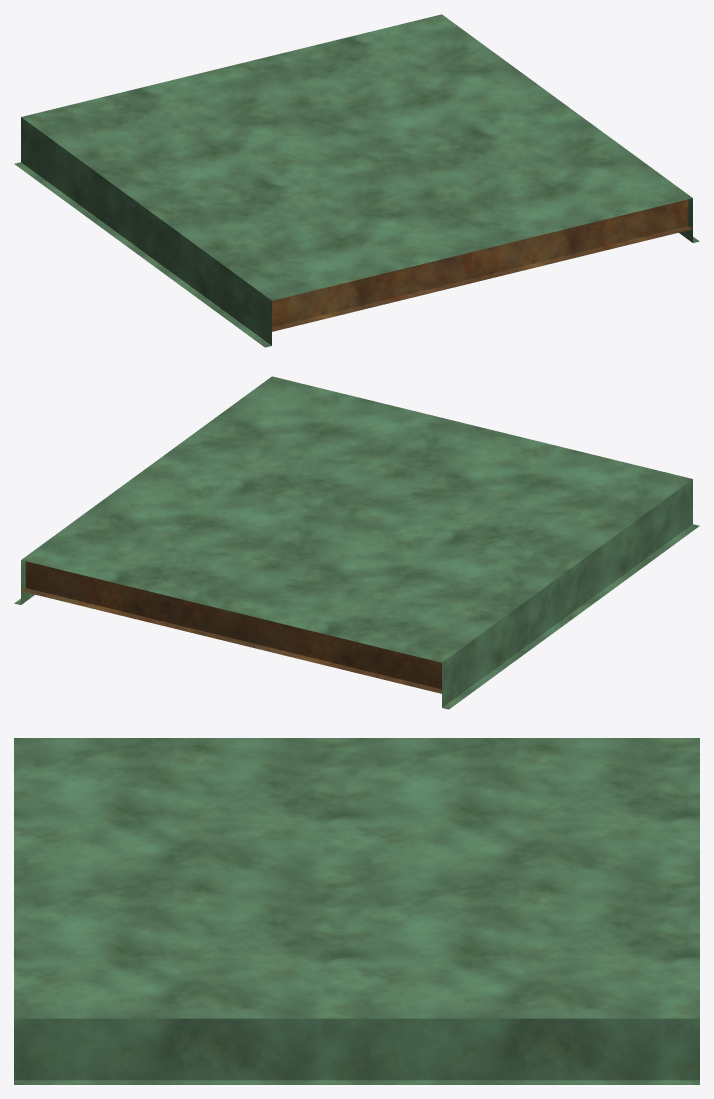
The model's file is CeilingCrossBeam_MidShip.FBX.
The picture shows the model from 3 angles, top to bottom: view 1: azimuth 30°, elevation 25°; view 2: azimuth 150°, elevation 25°; view 3: azimuth 270°, elevation 25°; orthographic projection. The views are drawn at different scales.
Visible parts, largest first — view 1: Floor Large002; view 2: Floor Large002; view 3: Floor Large002.
Part boxes in pixels (<box>): Floor Large002: <box>14,14,699,347</box>; Floor Large002: <box>14,376,699,709</box>; Floor Large002: <box>14,738,699,1084</box>.
Bounding box in the file's own units: 400 × 39.66 × 400.
